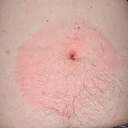Cellulitis: (65, 49, 84, 66)
